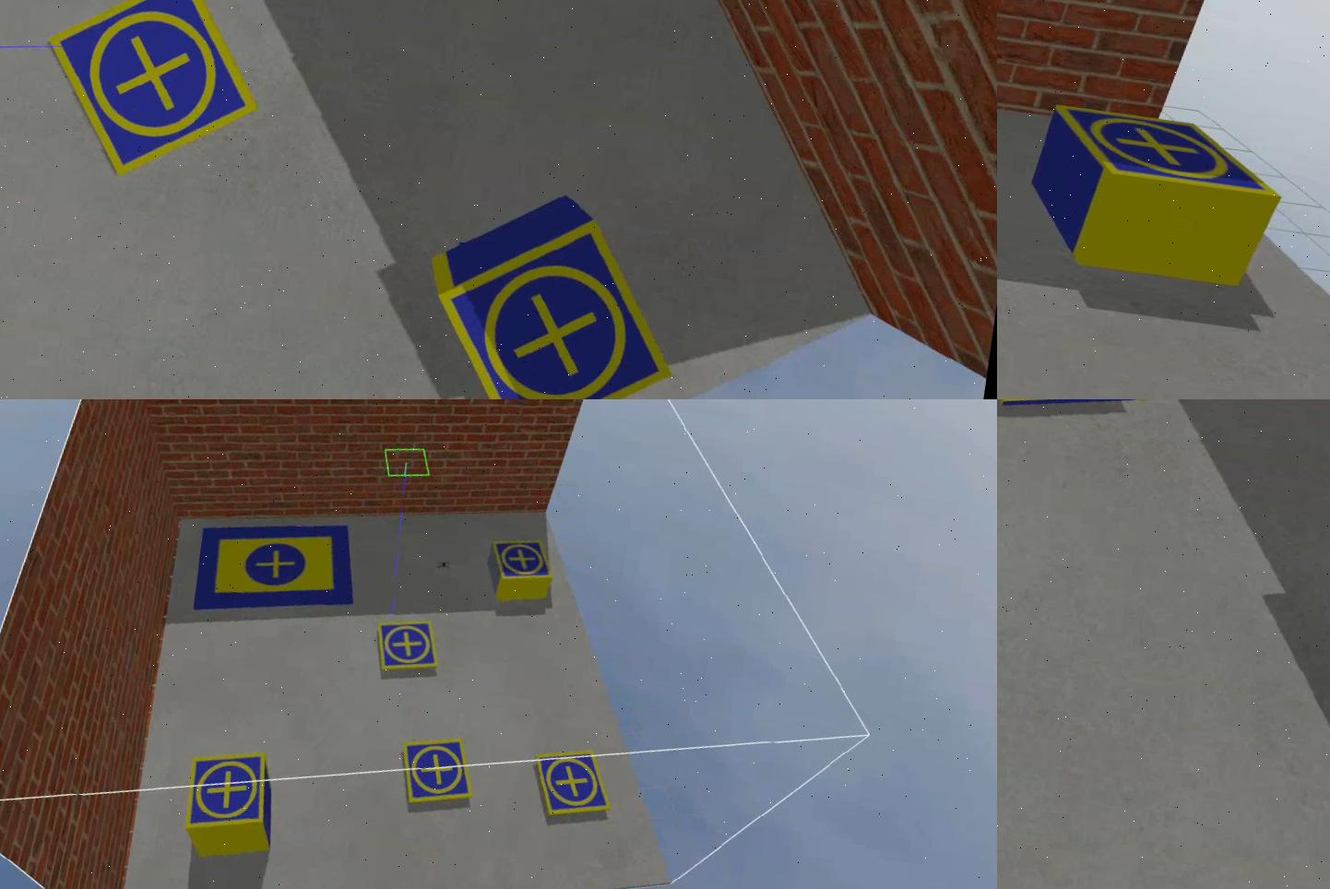large_base: (195, 508, 365, 633)
small_base: (422, 197, 693, 400), (32, 1, 273, 197), (1041, 101, 1296, 211), (184, 745, 277, 841), (529, 744, 620, 828), (397, 733, 482, 814), (372, 615, 445, 680), (487, 536, 559, 589)
